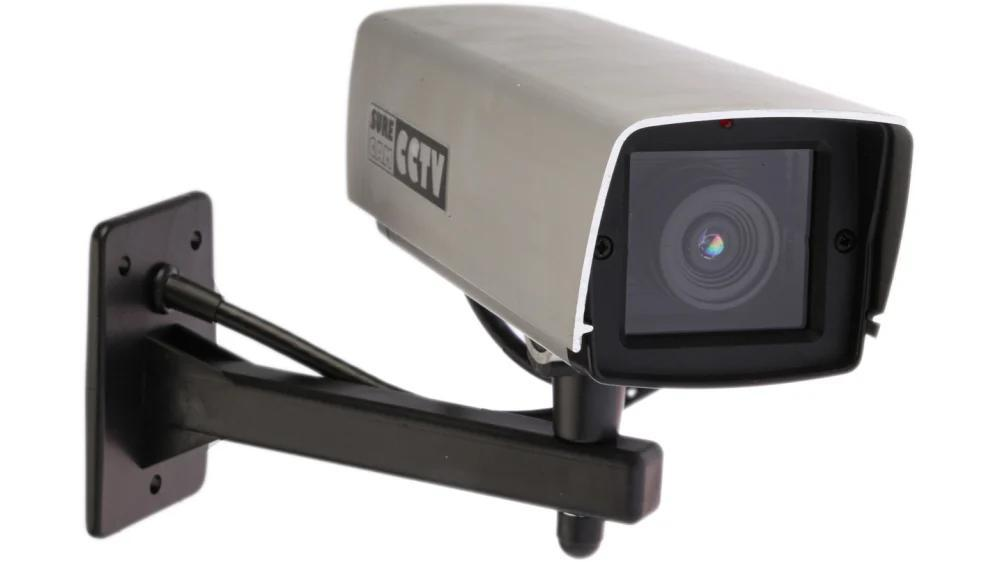camera: (296, 1, 934, 560)
